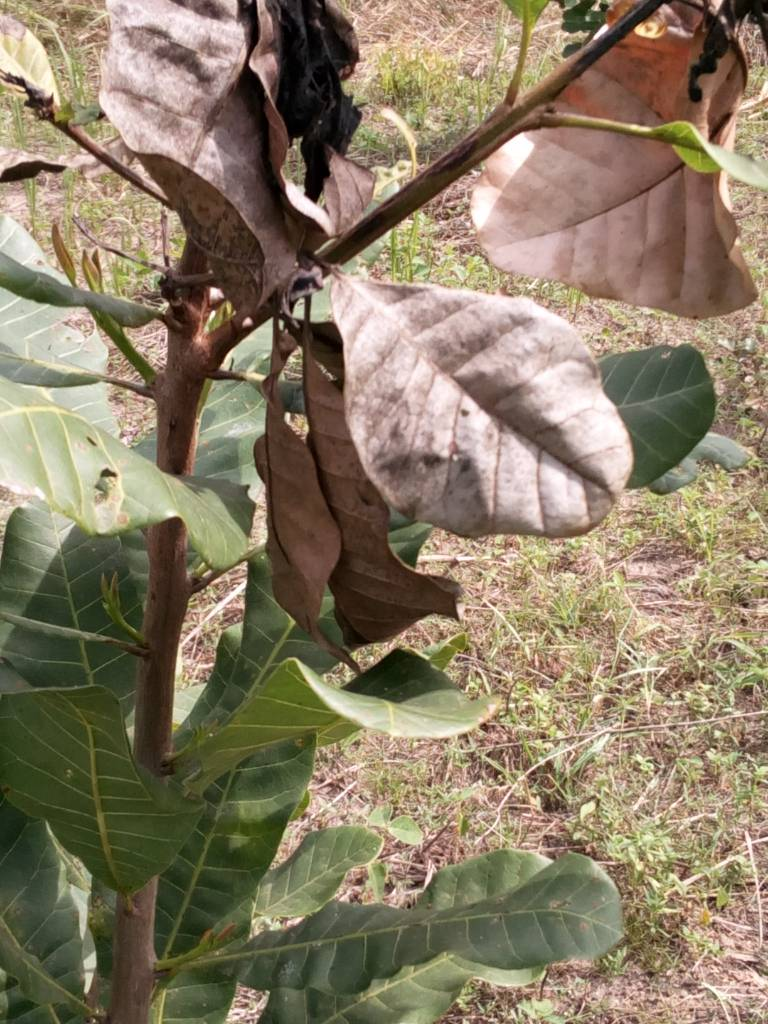Dessèchement des bourgeons: (124, 213, 257, 347), (662, 1, 765, 103)
